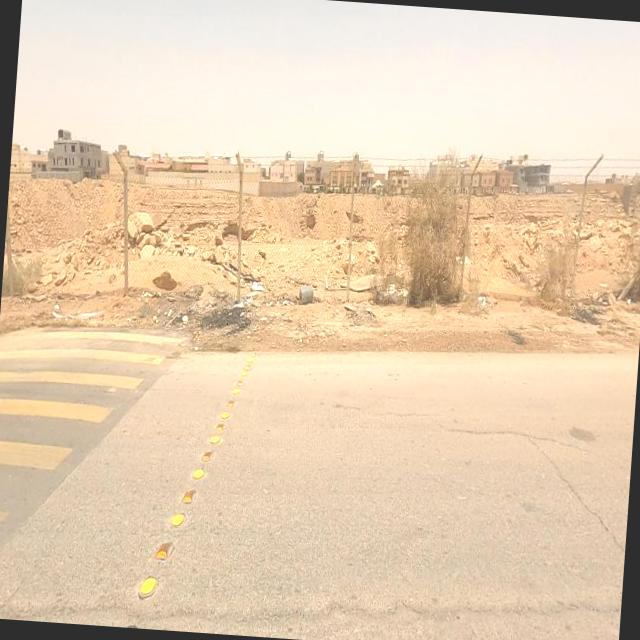debris: (260, 259, 342, 326), (207, 248, 270, 335), (137, 287, 218, 348), (23, 286, 111, 336), (228, 242, 277, 325), (454, 268, 508, 338), (135, 295, 165, 345)
